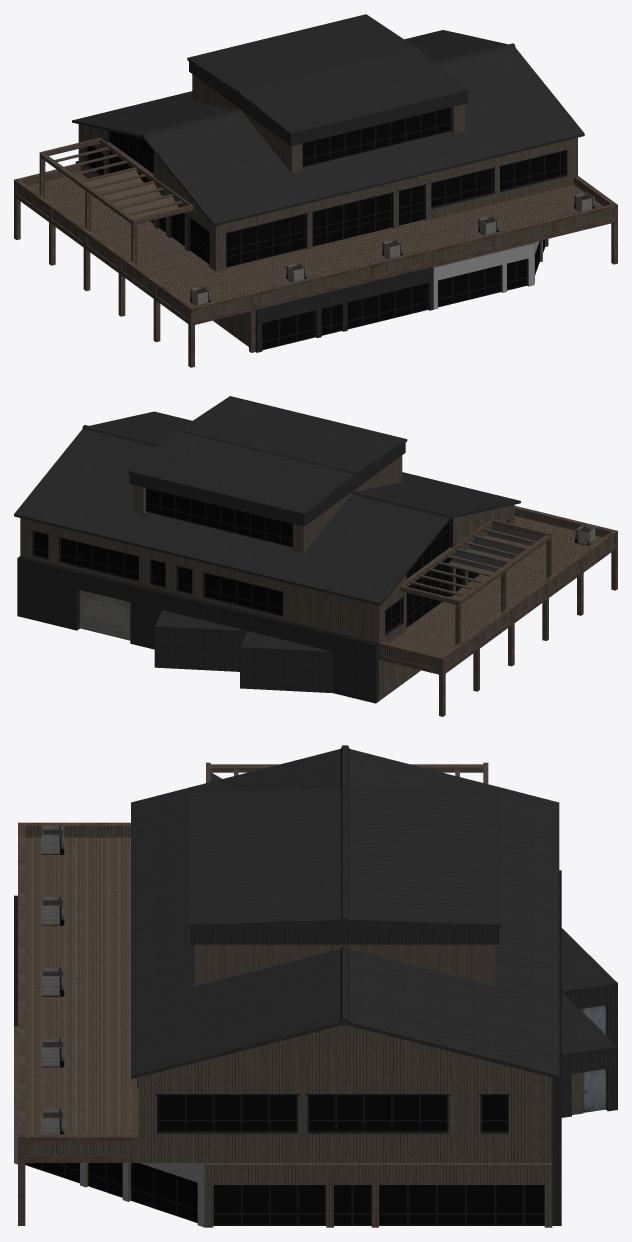
Rendered from Shopping center.fbx.
The picture shows the model from 3 angles, top to bottom: view 1: azimuth 30°, elevation 25°; view 2: azimuth 150°, elevation 25°; view 3: azimuth 270°, elevation 25°; orthographic projection. The views are drawn at different scales.
Visible parts, largest first — view 1: Cube_Supermarket_0; view 2: Cube_Supermarket_0; view 3: Cube_Supermarket_0.
Part boxes in pixels (bbox=[...]): Cube_Supermarket_0: bbox=[14, 14, 617, 367]; Cube_Supermarket_0: bbox=[14, 396, 617, 716]; Cube_Supermarket_0: bbox=[14, 745, 617, 1227].
Size of the model in its own units: 36.34 by 12.82 by 29.16.
2 materials, 2 textured.
